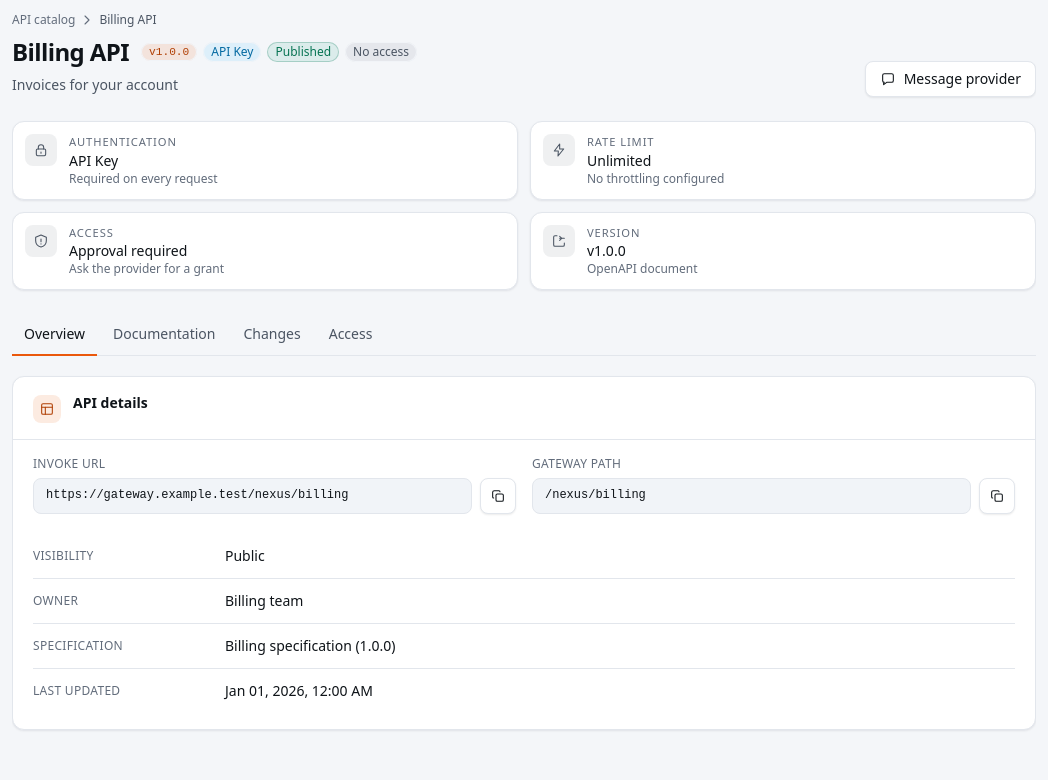
Test case: catalog change history (issue #448) › says when a comparison is incomplete instead of claiming nothing changed
The width and height of the screenshot is (1048, 780).
Expected: the heading "Billing API" is shown, [12,36,129,68]
Press the mouse on the tab "Changes" at (272, 335), box [232,314,313,356]
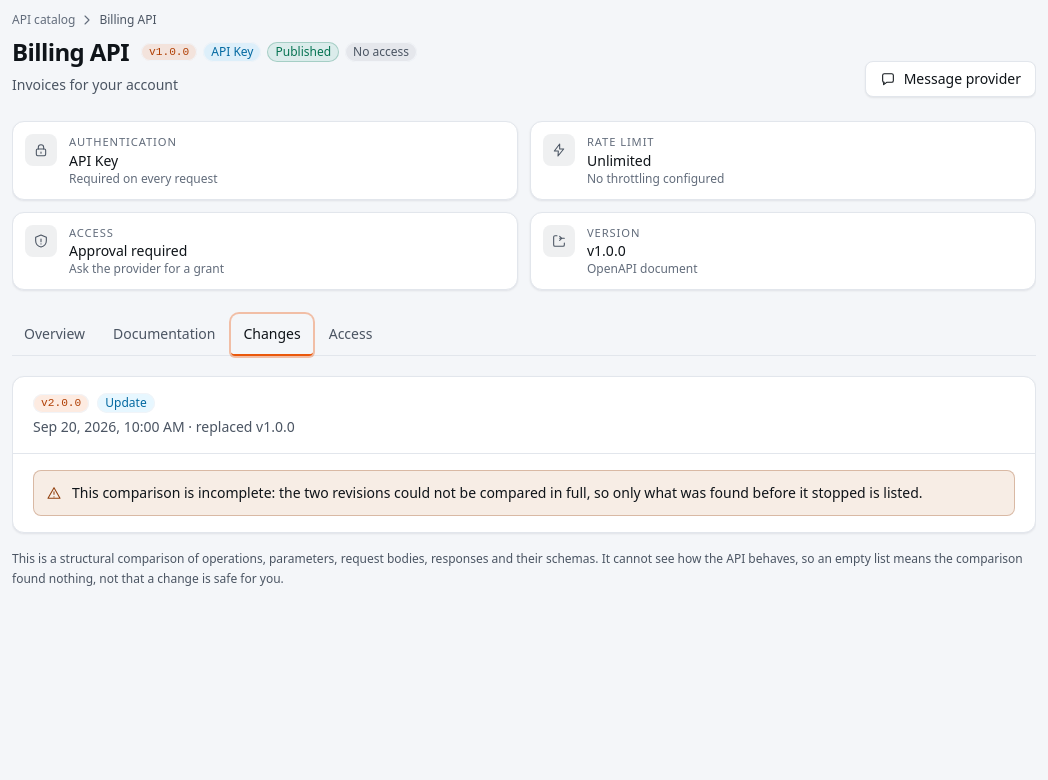
Expected: the text "This comparison is incomplete" is shown, [72,483,923,502]
